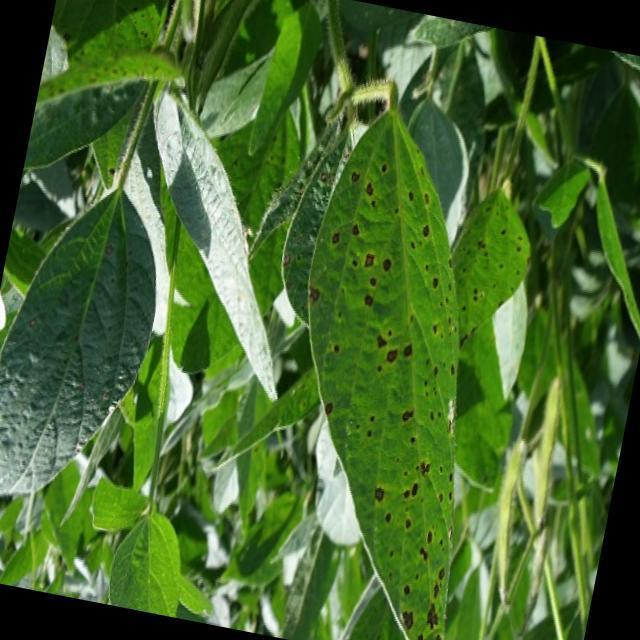Bacterial Spot: (255, 143, 528, 640)
